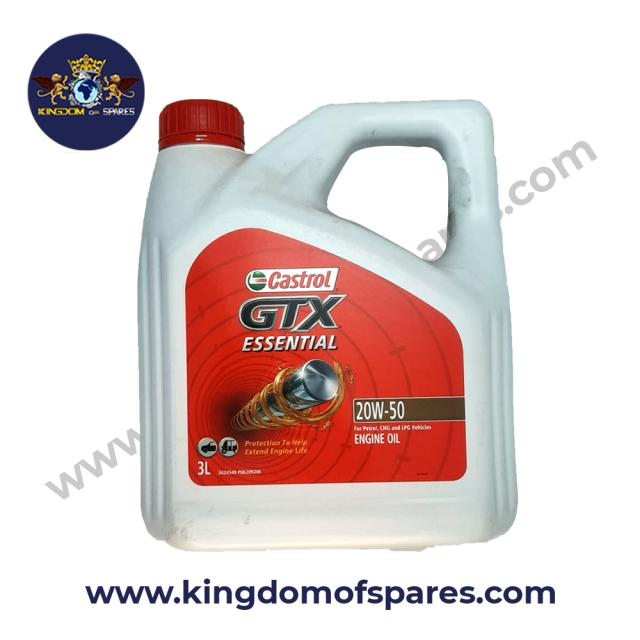motor_oil: (148, 92, 524, 552)
